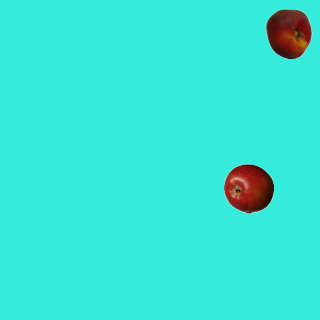Apple Braeburn: (223, 163, 273, 213)
Nectarine Flat: (263, 8, 313, 58)
